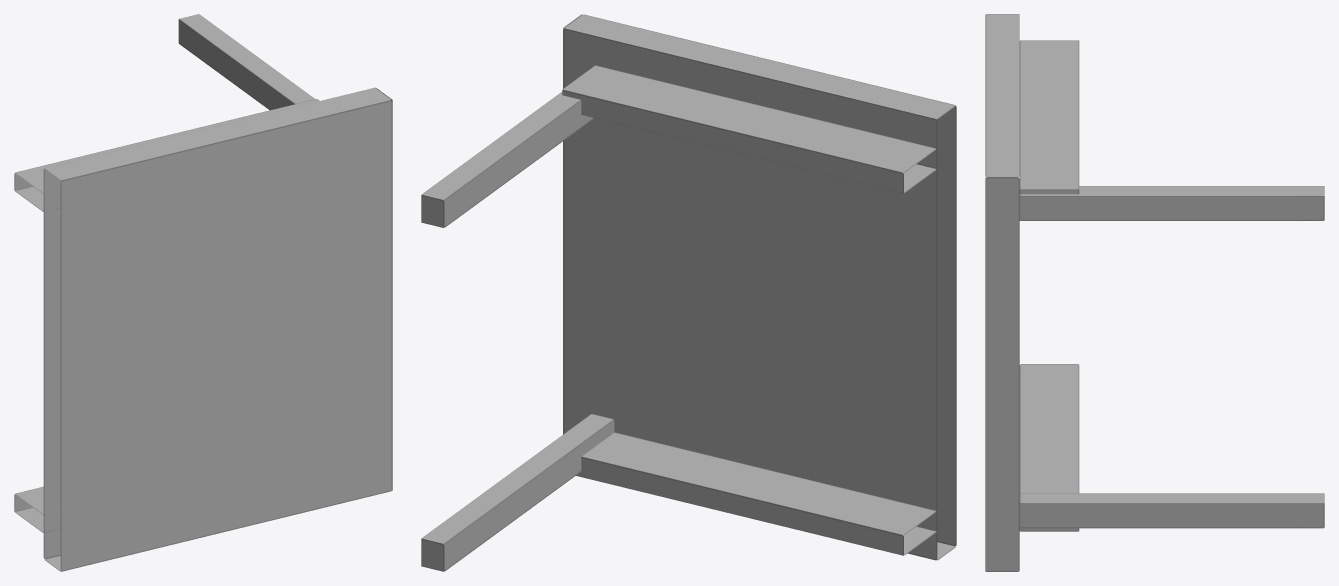
File: pz_table_tables_high_01_large_simple_1_0.obj
3 renders of one model, left to right at view 1: azimuth 30°, elevation 25°; view 2: azimuth 150°, elevation 25°; view 3: azimuth 270°, elevation 25°, orthographic. The views are drawn at different scales.
Size of the model in its own units: 0.8438 by 0.95 by 0.74.
Materials: 1 (1 with a texture image).
